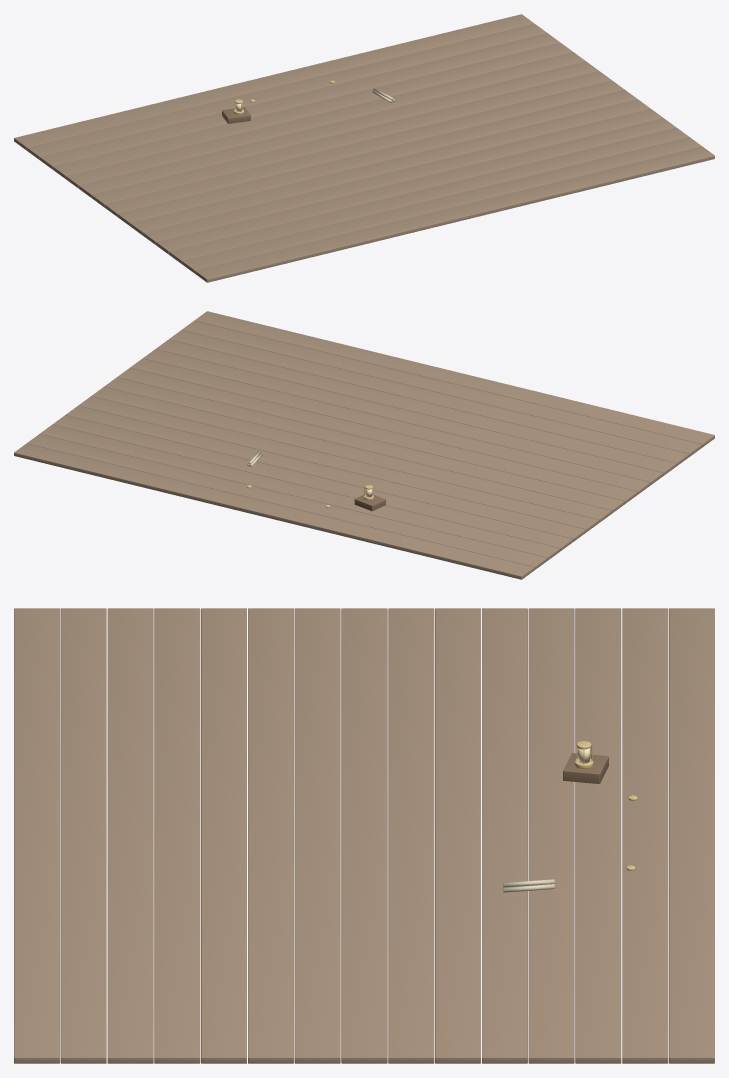
The model's file is war_room_table.glb.
3 views of the same model, one above another, from view 1: azimuth 30°, elevation 25°; view 2: azimuth 150°, elevation 25°; view 3: azimuth 270°, elevation 25° (orthographic). The views are drawn at different scales.
Parts seen in each view (by area): view 1: OakPlanks; view 2: OakPlanks; view 3: OakPlanks, AmmoCrate.
Part boxes in pixels (<box>): OakPlanks: <box>14,14,714,282</box>; OakPlanks: <box>14,311,714,579</box>; OakPlanks: <box>14,608,714,1063</box>; AmmoCrate: <box>563,753,608,783</box>.
Size of the model in its own units: 52 by 2.03 by 34.28.
